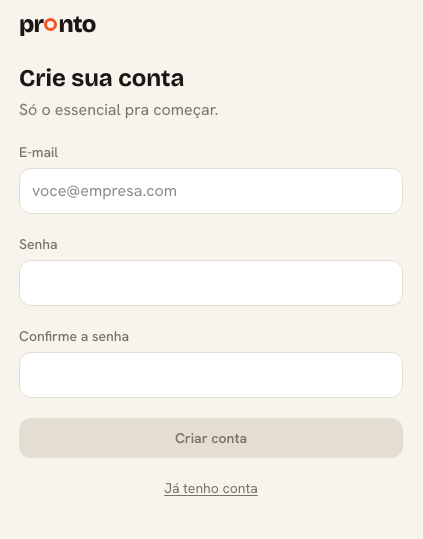
Test: CadastroContaPage › mantém o botão desabilitado se as senhas não coincidem
The image size is (423, 539).
Type "pessoa@example.com" into the field labelled "E-mail".
click(211, 191); type("pessoa@example.com")  # box [19,168,403,214]
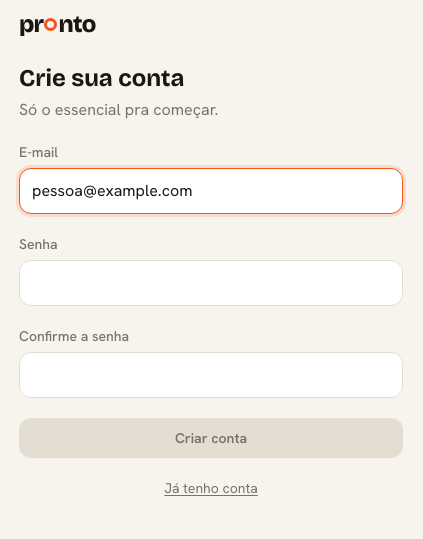
Type "12345678" into the password field labelled "Senha".
click(211, 283); type("12345678")  # box [19,260,403,306]
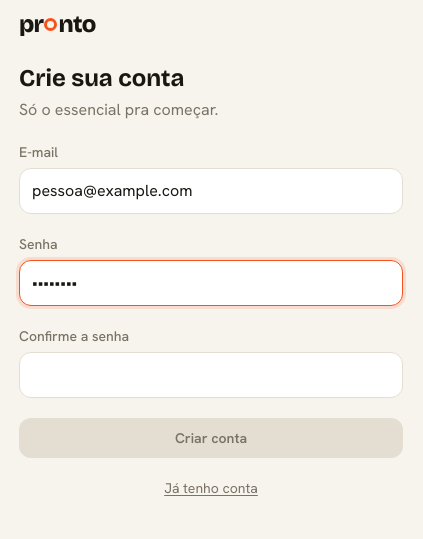
Type "87654321" into the password field labelled "Confirme a senha".
click(211, 375); type("87654321")  # box [19,352,403,398]
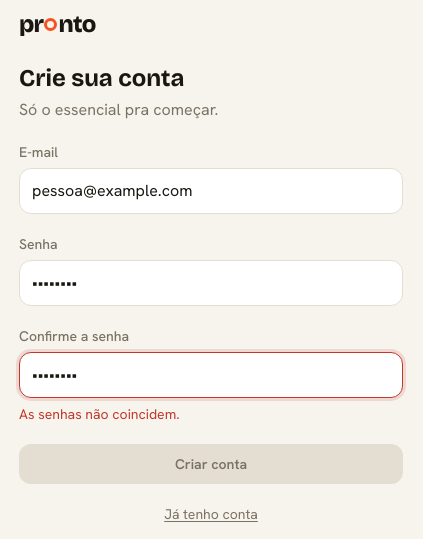
Expected: the button "Criar conta" is disabled, [19,444,403,484]
Expected: the text "As senhas não coincidem." is shown, [19,405,180,423]
